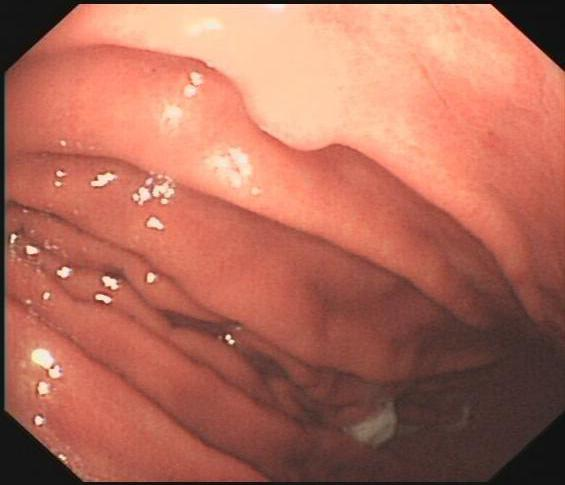Polyp: (228, 88, 344, 157)
